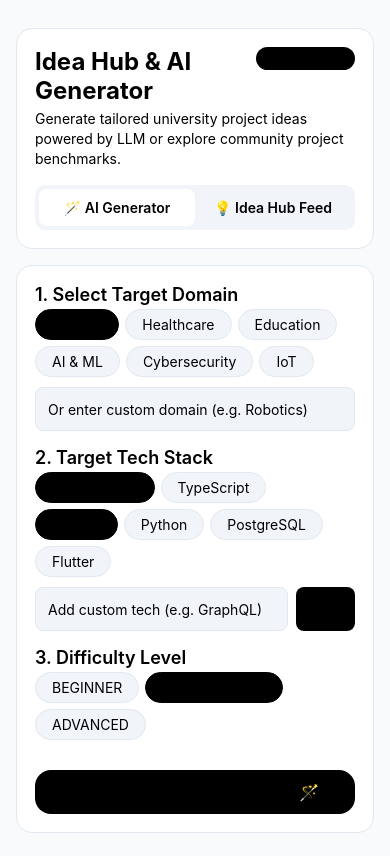
it: Idea Hub & AI Idea Generator (Phase 4 - Features 11 & 18) › handles LLM failure gracefully showing fallback banner without crashing
The image size is (390, 856).
Step 1. Click the text "Generate Project Idea with AI 🪄" → coordinates (195, 792), box [71,782,319,802]
(page scrolled)
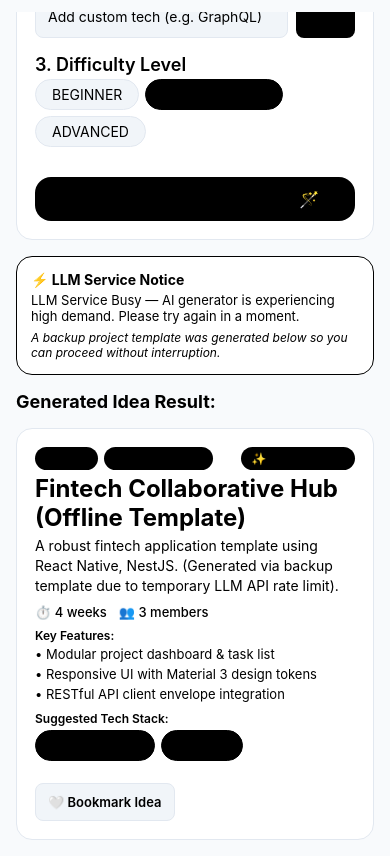
Result: the text "LLM Service Busy — AI generator is experiencing high demand" is shown at [31,292,338,324]
Result: the text "Fintech Collaborative Hub (Offline Template)" is shown at [35,474,355,532]
